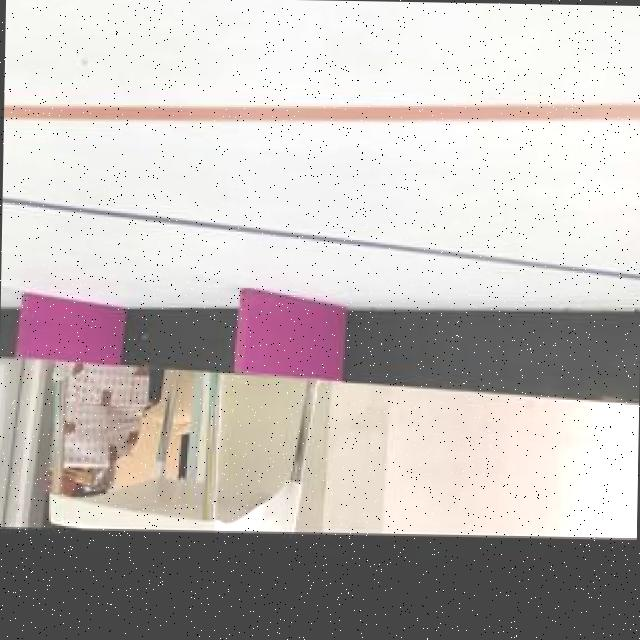xparking: (236, 292, 340, 374), (11, 298, 118, 364)
